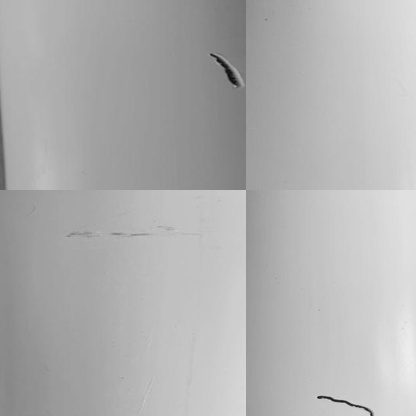fengxi: (316, 391, 376, 413)
kongdong: (206, 50, 244, 90)
